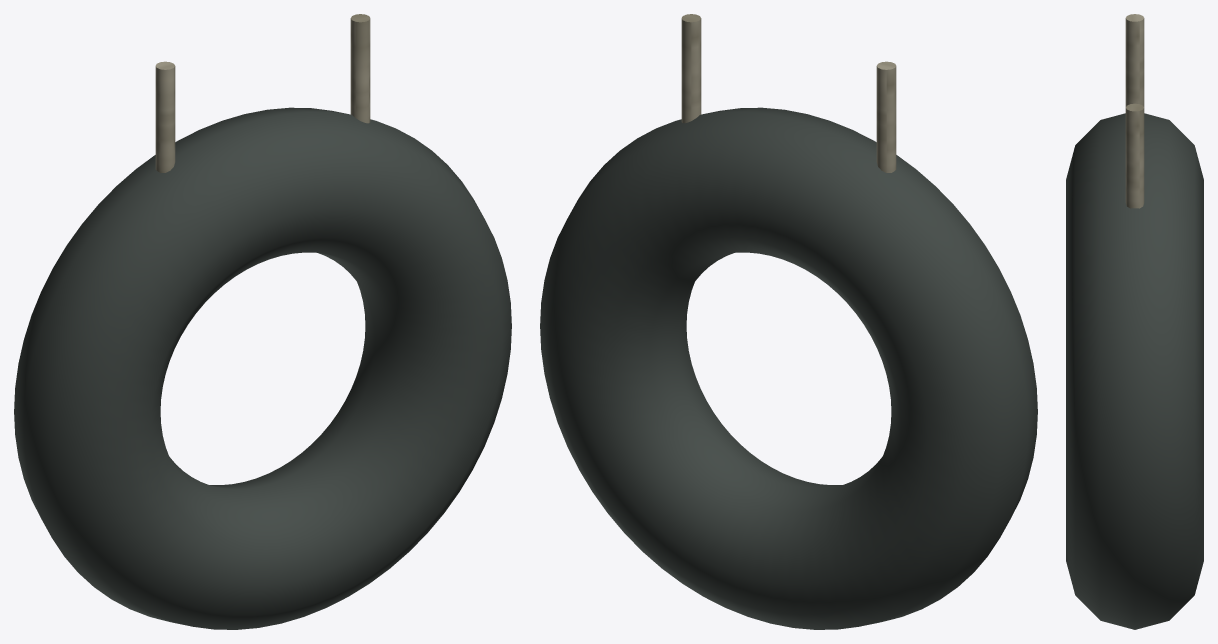
File: Dock_Fender.glb
3 renders of one model, left to right at view 1: azimuth 30°, elevation 25°; view 2: azimuth 150°, elevation 25°; view 3: azimuth 270°, elevation 25°, orthographic. The views are drawn at different scales.
Visible parts, largest first — view 1: Dock_Fender; view 2: Dock_Fender; view 3: Dock_Fender.
Boxes of the visible parts, bbox=[...] form: Dock_Fender: bbox=[14, 14, 511, 629]; Dock_Fender: bbox=[540, 14, 1037, 629]; Dock_Fender: bbox=[1066, 14, 1203, 629].
Bounding box in the file's own units: 0.98 × 1.13 × 0.26.
Materials: 2 (1 with a texture image).
